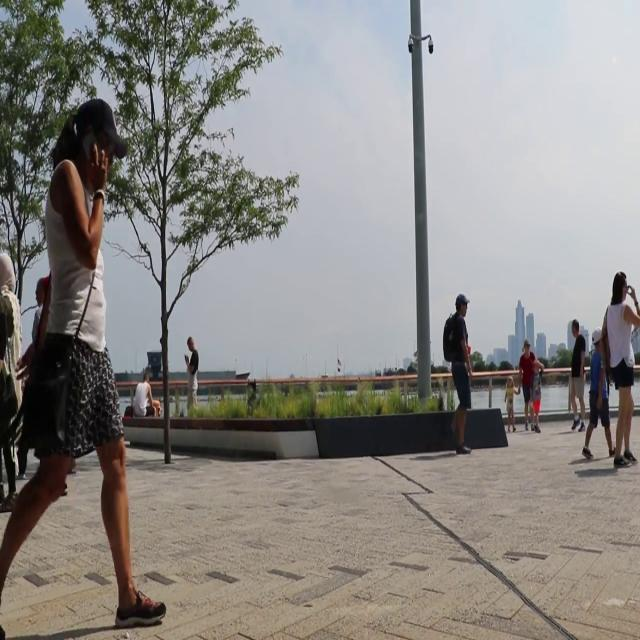normal: (3, 86, 170, 628), (603, 268, 640, 470), (445, 292, 479, 460), (567, 313, 587, 440)
